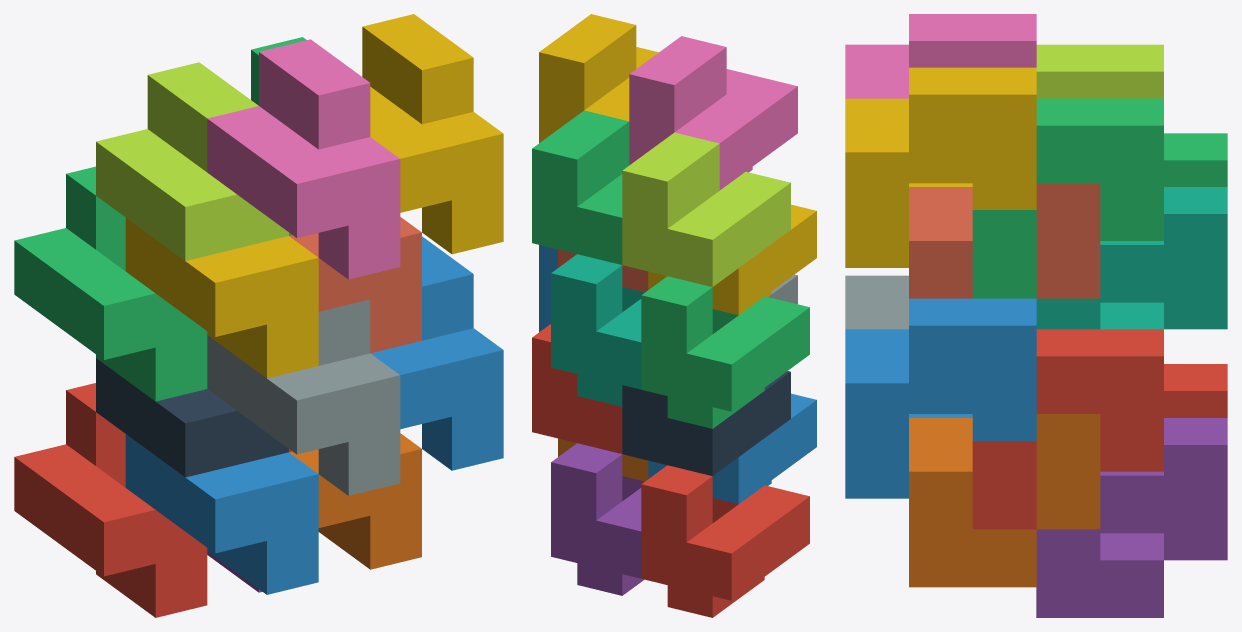
File: tiling.obj
3 renders of one model, left to right at view 1: azimuth 30°, elevation 25°; view 2: azimuth 150°, elevation 25°; view 3: azimuth 270°, elevation 25°, orthographic. The views are drawn at different scales.
Visible parts, largest first — view 1: copy_2_domain_4, copy_2_domain_8, copy_1_domain_3, copy_1_domain_1, copy_2_domain_2, copy_2_domain_3, copy_1_domain_4, copy_1_domain_2, copy_2_domain_6, copy_2_domain_1, copy_1_domain_6, copy_1_domain_8 (+1 smaller); view 2: copy_2_domain_3, copy_1_domain_3, copy_1_domain_1, copy_2_domain_4, copy_2_domain_7, copy_1_domain_5, copy_1_domain_7, copy_2_domain_8, copy_2_domain_1, copy_2_domain_5, copy_1_domain_2, copy_1_domain_4 (+4 smaller); view 3: copy_2_domain_8, copy_2_domain_6, copy_1_domain_5, copy_1_domain_6, copy_2_domain_7, copy_2_domain_5, copy_1_domain_7, copy_1_domain_8, copy_2_domain_4, copy_2_domain_3, copy_2_domain_2, copy_1_domain_1 (+1 smaller).
Part boxes in pixels (x1,y1,x2,y2): copy_2_domain_4: (207,39,400,279); copy_2_domain_8: (362,14,503,254); copy_1_domain_3: (14,166,207,401); copy_1_domain_1: (14,383,207,617); copy_2_domain_2: (207,299,400,495); copy_2_domain_3: (96,62,288,260); copy_1_domain_4: (125,218,318,378); copy_1_domain_2: (125,434,318,594); copy_2_domain_6: (371,236,503,470); copy_2_domain_1: (96,358,288,477); copy_1_domain_6: (289,433,421,569); copy_1_domain_8: (289,217,421,353); copy_2_domain_3: (622,132,790,286); copy_1_domain_3: (641,276,809,428); copy_1_domain_1: (641,465,809,617); copy_2_domain_4: (629,36,797,190); copy_2_domain_7: (532,110,629,264); copy_1_domain_5: (551,443,644,595); copy_1_domain_7: (551,254,644,406); copy_2_domain_8: (539,14,658,142); copy_2_domain_1: (622,371,790,475); copy_2_domain_5: (532,324,622,453); copy_1_domain_2: (648,393,816,504); copy_1_domain_4: (648,204,816,315); copy_2_domain_8: (845,67,1036,267); copy_2_domain_6: (845,298,1036,498); copy_1_domain_5: (1036,418,1227,617); copy_1_domain_6: (909,414,1100,587); copy_2_domain_7: (972,98,1163,298); copy_2_domain_5: (972,329,1163,529); copy_1_domain_7: (1036,187,1227,329); copy_1_domain_8: (909,183,1100,298); copy_2_domain_4: (845,14,1036,98); copy_2_domain_3: (1036,44,1163,98); copy_2_domain_2: (845,275,908,329); copy_1_domain_1: (1164,364,1227,417).
Size of the model in its own units: 6 by 10 by 6.
